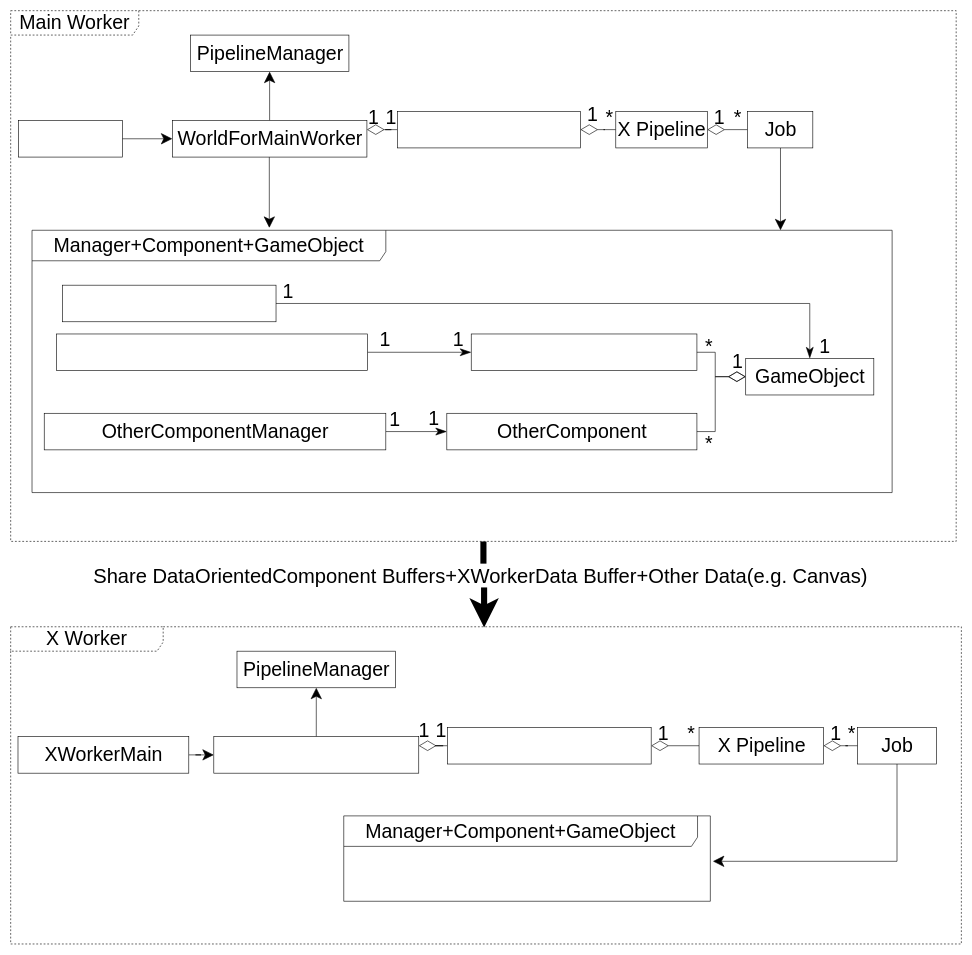
Image size: 972x955. Some labels were removed from this diagram. Each missing label, with the centre of its shape:
Client: [70,138]
DataOrientedComponent: [584,352]
DataOrientedComponentManager: [212,352]
GameObjectManager: [169,303]
MainWorkerPipeline: [488,129]
WorldForXWorker: [316,754]
XWorkerPipeline: [549,745]
